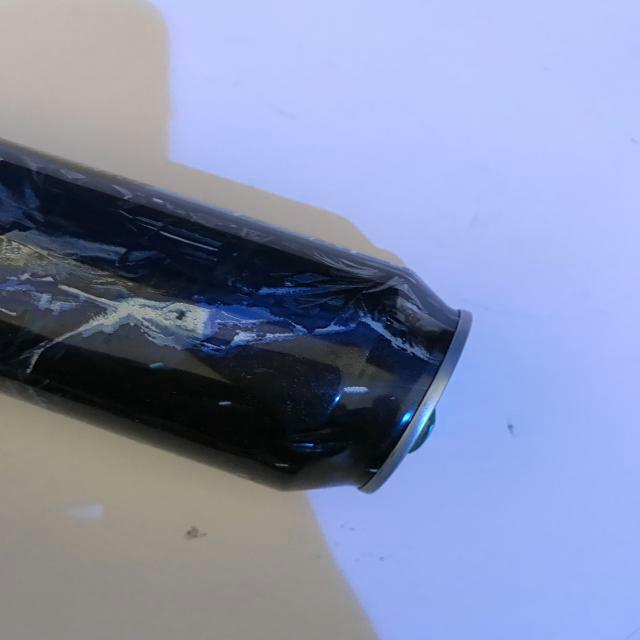metal: (3, 119, 503, 534)
